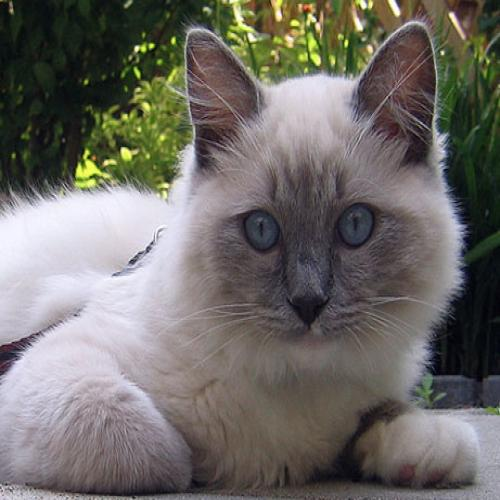ragdoll: (170, 19, 460, 366)
